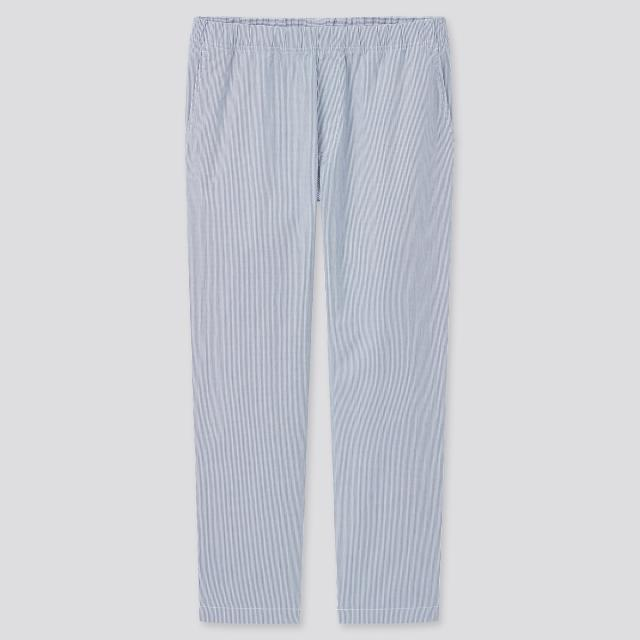long-pants: (183, 15, 457, 628)
